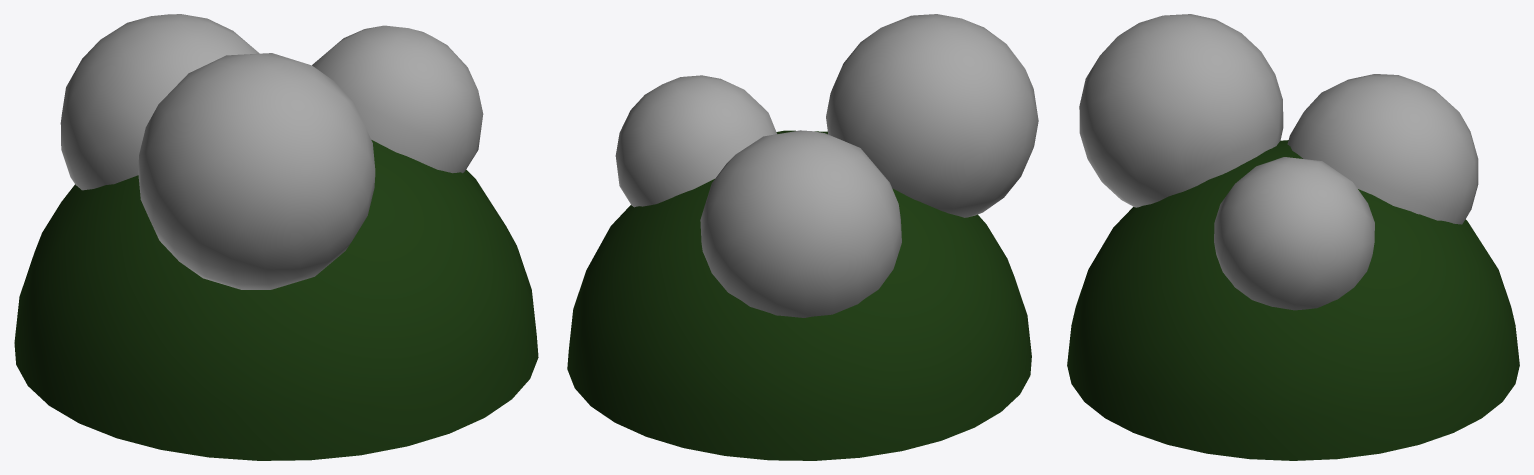
Rendered from plant_18.fbx.
3 renders of one model, left to right at view 1: azimuth 30°, elevation 25°; view 2: azimuth 150°, elevation 25°; view 3: azimuth 270°, elevation 25°, orthographic. The views are drawn at different scales.
Visible parts, largest first — view 1: plant_18; view 2: plant_18; view 3: plant_18.
Part boxes in pixels (<box>): plant_18: <box>14,14,538,460</box>; plant_18: <box>567,14,1038,460</box>; plant_18: <box>1067,14,1519,460</box>.
Bounding box in the file's own units: 0.4834 × 0.4834 × 0.3602.
